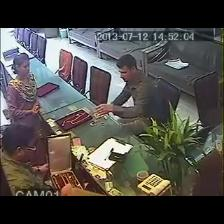person: (96, 54, 155, 135), (7, 54, 46, 165), (1, 124, 51, 195)
